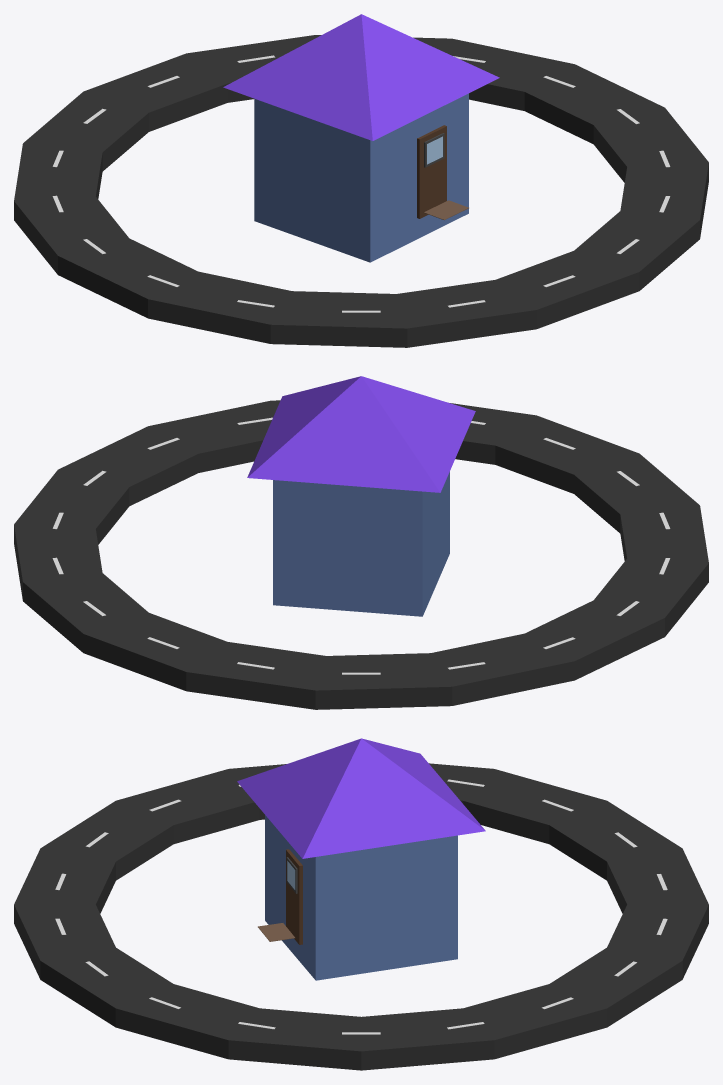
File: city_03_1.fbx
The picture shows the model from 3 angles, top to bottom: view 1: azimuth 30°, elevation 25°; view 2: azimuth 150°, elevation 25°; view 3: azimuth 270°, elevation 25°; orthographic projection.
Parts seen in each view (by area): view 1: street.001, house, roof, doorFront.001, laneMarkings, windowBack.002; view 2: street.001, house, roof, laneMarkings; view 3: street.001, house, roof, laneMarkings, doorFront.001.
Boxes of the visible parts, left/top/right/bottom form: street.001: left=14, top=35, right=708, bottom=347; house: left=254, top=93, right=468, bottom=262; roof: left=223, top=14, right=499, bottom=140; doorFront.001: left=417, top=125, right=446, bottom=218; laneMarkings: left=52, top=55, right=670, bottom=312; windowBack.002: left=424, top=133, right=444, bottom=167; street.001: left=14, top=400, right=708, bottom=709; house: left=273, top=471, right=449, bottom=616; roof: left=247, top=376, right=475, bottom=492; laneMarkings: left=52, top=417, right=670, bottom=674; street.001: left=14, top=763, right=708, bottom=1070; house: left=265, top=815, right=457, bottom=980; roof: left=237, top=738, right=485, bottom=858; laneMarkings: left=55, top=779, right=667, bottom=1034; doorFront.001: left=286, top=849, right=302, bottom=944.
Size of the model in its own units: 86.3 by 27.61 by 86.3.
